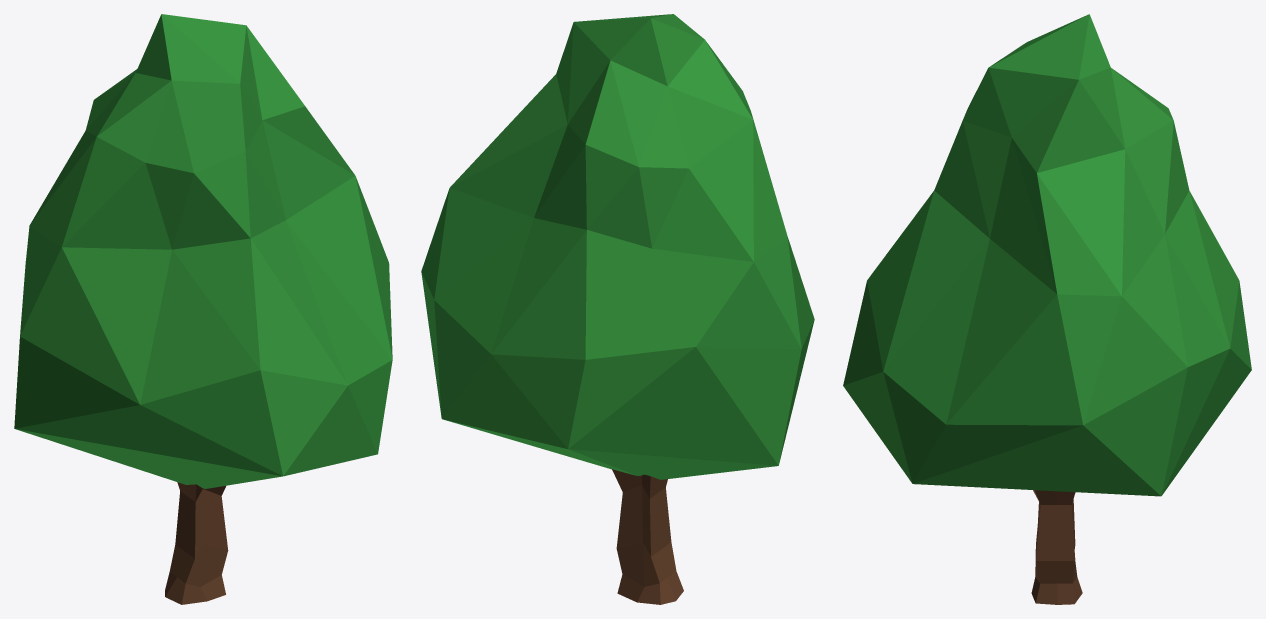
File: Tree_27_Green.fbx
The picture shows the model from 3 angles, left to right: view 1: azimuth 30°, elevation 25°; view 2: azimuth 150°, elevation 25°; view 3: azimuth 270°, elevation 25°; orthographic projection. The views are drawn at different scales.
Visible parts, largest first — view 1: Tree_27_Green_Part_1, Tree_27_Green_Part_2; view 2: Tree_27_Green_Part_1, Tree_27_Green_Part_2; view 3: Tree_27_Green_Part_1, Tree_27_Green_Part_2.
Boxes of the visible parts, x1=… form: Tree_27_Green_Part_1: x1=14, y1=14, x2=392, y2=488; Tree_27_Green_Part_2: x1=165, y1=482, x2=228, y2=604; Tree_27_Green_Part_1: x1=421, y1=14, x2=814, y2=479; Tree_27_Green_Part_2: x1=612, y1=469, x2=683, y2=604; Tree_27_Green_Part_1: x1=843, y1=14, x2=1251, y2=496; Tree_27_Green_Part_2: x1=1031, y1=490, x2=1082, y2=604.
Bounding box in the file's own units: 470 × 696 × 451.
